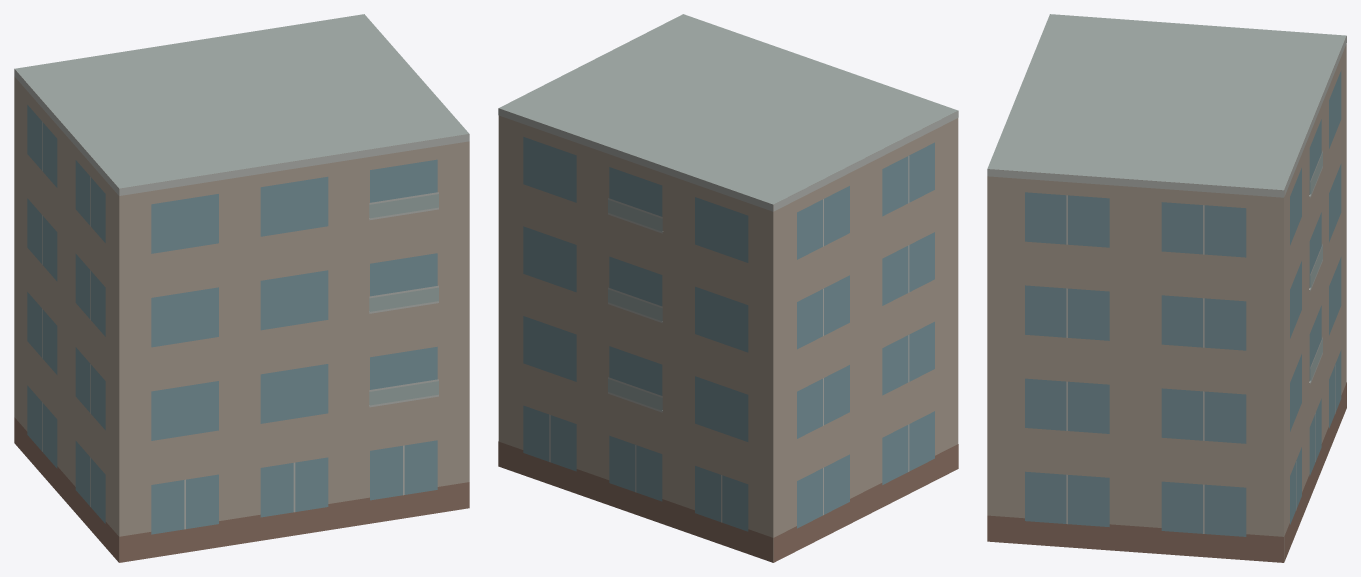
File: residential-15a320d0-d23c-45cb-8ddc-1a4f925852d4.glb
The picture shows the model from 3 angles, left to right: view 1: azimuth 30°, elevation 25°; view 2: azimuth 150°, elevation 25°; view 3: azimuth 270°, elevation 25°; orthographic projection. The views are drawn at different scales.
Parts seen in each view (by area): view 1: residential-15a320d0-d23c-45cb-8ddc-1a4f925852d4.tmp; view 2: residential-15a320d0-d23c-45cb-8ddc-1a4f925852d4.tmp; view 3: residential-15a320d0-d23c-45cb-8ddc-1a4f925852d4.tmp.
Boxes of the visible parts, bbox=[...] form: residential-15a320d0-d23c-45cb-8ddc-1a4f925852d4.tmp: bbox=[14, 14, 469, 562]; residential-15a320d0-d23c-45cb-8ddc-1a4f925852d4.tmp: bbox=[498, 14, 958, 562]; residential-15a320d0-d23c-45cb-8ddc-1a4f925852d4.tmp: bbox=[987, 14, 1346, 562].
Bounding box in the file's own units: 12.39 × 12.2 × 10.68.
